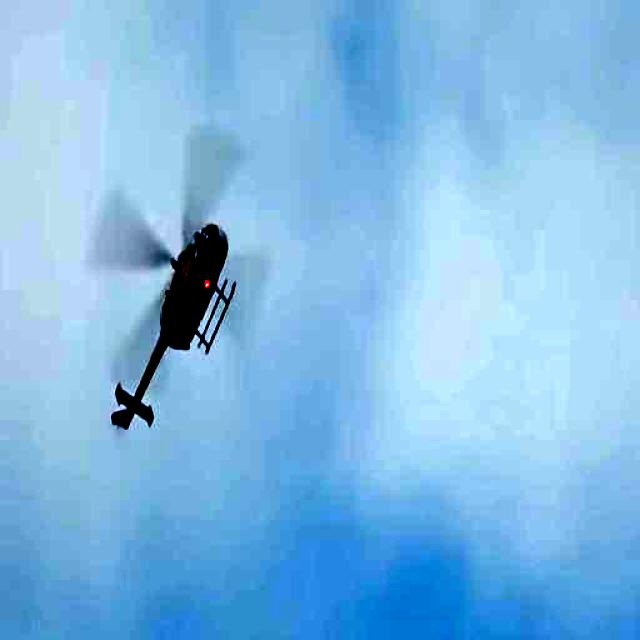drone: (102, 216, 238, 448)
